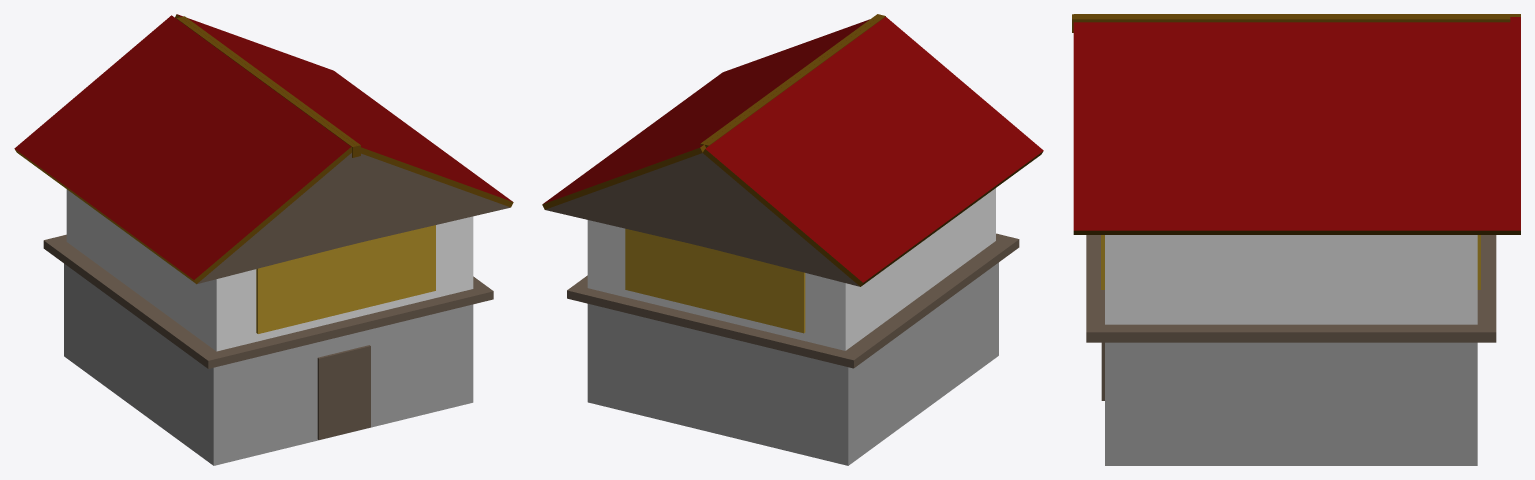
Rendered from House C.fbx.
3 views of the same model, side by side, from view 1: azimuth 30°, elevation 25°; view 2: azimuth 150°, elevation 25°; view 3: azimuth 270°, elevation 25° (orthographic). The views are drawn at different scales.
Visible parts, largest first — view 1: pCube6, pCube1, pCube5, pCube7, pCube10, pCube3, pCube8, pCube9; view 2: pCube6, pCube1, pCube5, pCube7, pCube11, pCube3, pCube9; view 3: pCube5, pCube1, pCube7, pCube3, pCube9, pCube6.
Boxes of the visible parts, x1,y1,x2,y2 form: pCube6: (14, 15, 353, 284); pCube1: (64, 263, 473, 465); pCube5: (175, 14, 513, 243); pCube7: (66, 189, 473, 351); pCube10: (256, 225, 435, 333); pCube3: (43, 234, 493, 368); pCube8: (317, 345, 370, 439); pCube9: (176, 16, 360, 157); pCube6: (702, 17, 1043, 286); pCube1: (587, 262, 998, 465); pCube5: (542, 19, 869, 246); pCube7: (587, 188, 995, 350); pCube11: (625, 228, 805, 333); pCube3: (567, 233, 1019, 368); pCube9: (700, 14, 885, 147); pCube5: (1073, 17, 1520, 234); pCube1: (1105, 342, 1477, 465); pCube7: (1105, 235, 1477, 324); pCube3: (1086, 235, 1496, 342); pCube9: (1072, 14, 1510, 32); pCube6: (1074, 14, 1520, 16).
Size of the model in its own units: 12.32 by 10.97 by 12.04.
